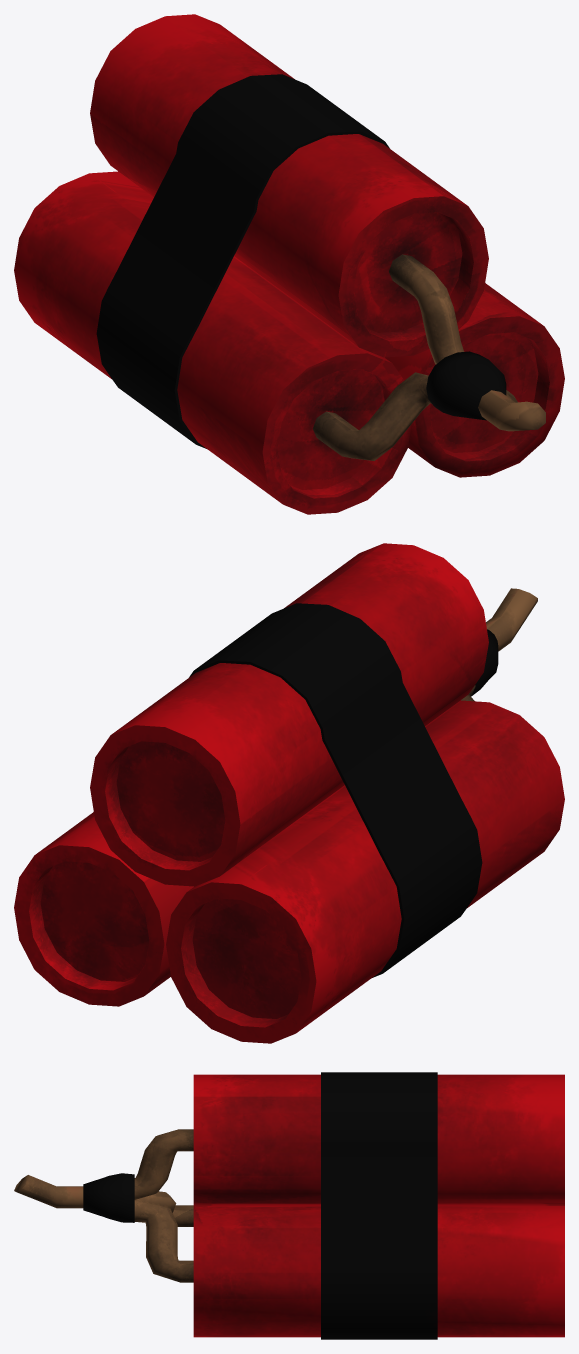
Rendered from dynamite.fbx.
3 renders of one model, top to bottom at view 1: azimuth 30°, elevation 25°; view 2: azimuth 150°, elevation 25°; view 3: azimuth 270°, elevation 25°, orthographic. The views are drawn at different scales.
Visible parts, largest first — view 1: dynamite; view 2: dynamite; view 3: dynamite.
Boxes of the visible parts, x1=… form: dynamite: x1=14, y1=14, x2=564, y2=514; dynamite: x1=14, y1=543, x2=564, y2=1043; dynamite: x1=14, y1=1072, x2=564, y2=1339.
Bounding box in the file's own units: 76.58 × 71.7 × 159.
1 material, 1 textured.
